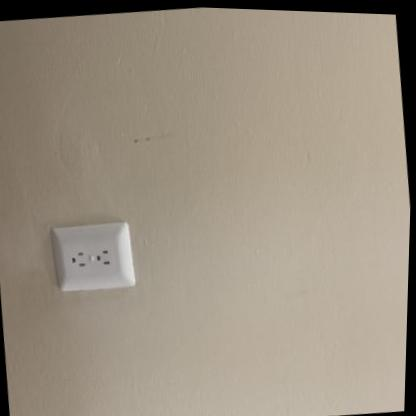OUTLET: (44, 214, 138, 297)
